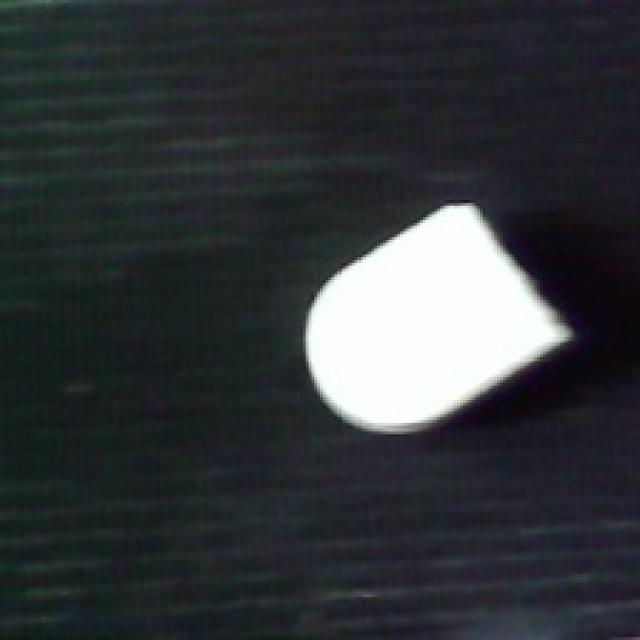defected: (297, 194, 583, 443)
